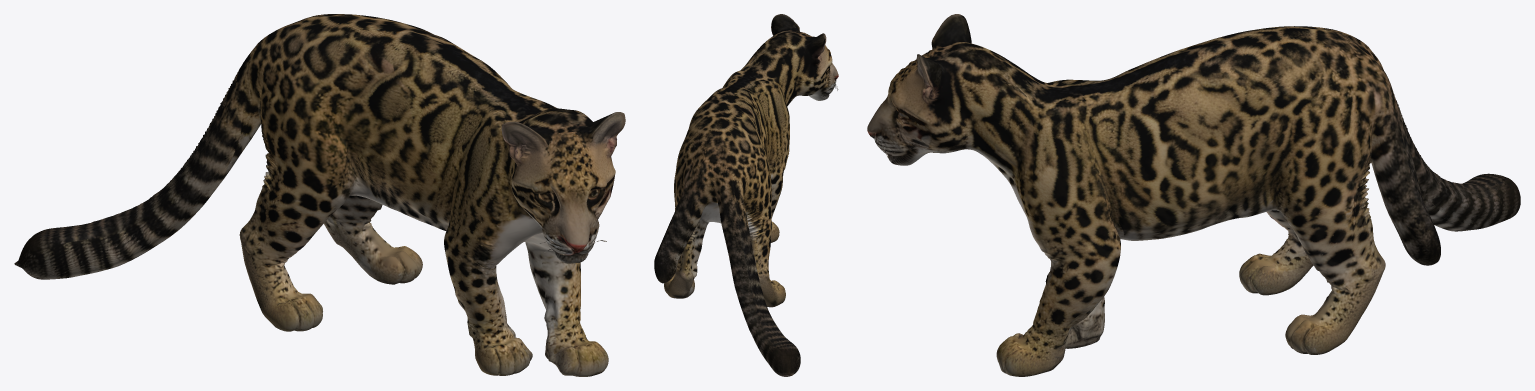
The model's file is yunbao-v1.glb.
3 views of the same model, side by side, from view 1: azimuth 30°, elevation 25°; view 2: azimuth 150°, elevation 25°; view 3: azimuth 270°, elevation 25° (orthographic). The views are drawn at different scales.
Parts seen in each view (by area): view 1: material; view 2: material; view 3: material.
Part boxes in pixels (bbox=[...]): material: bbox=[14, 14, 625, 376]; material: bbox=[654, 14, 838, 376]; material: bbox=[867, 14, 1520, 376].
Size of the model in its own units: 0.5933 by 0.4893 by 0.9482.
1 material, 1 textured.
